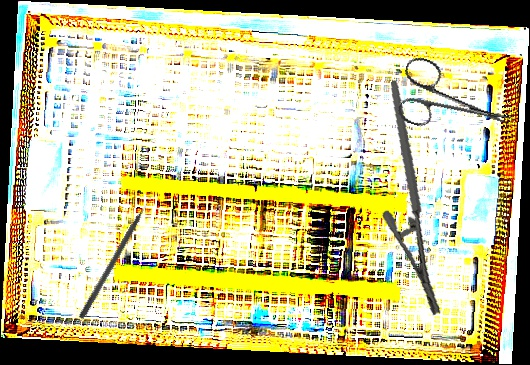Iris Scissors: (390, 54, 523, 152)
Needle Holder: (356, 79, 476, 318)
Pusher: (77, 191, 158, 321)
